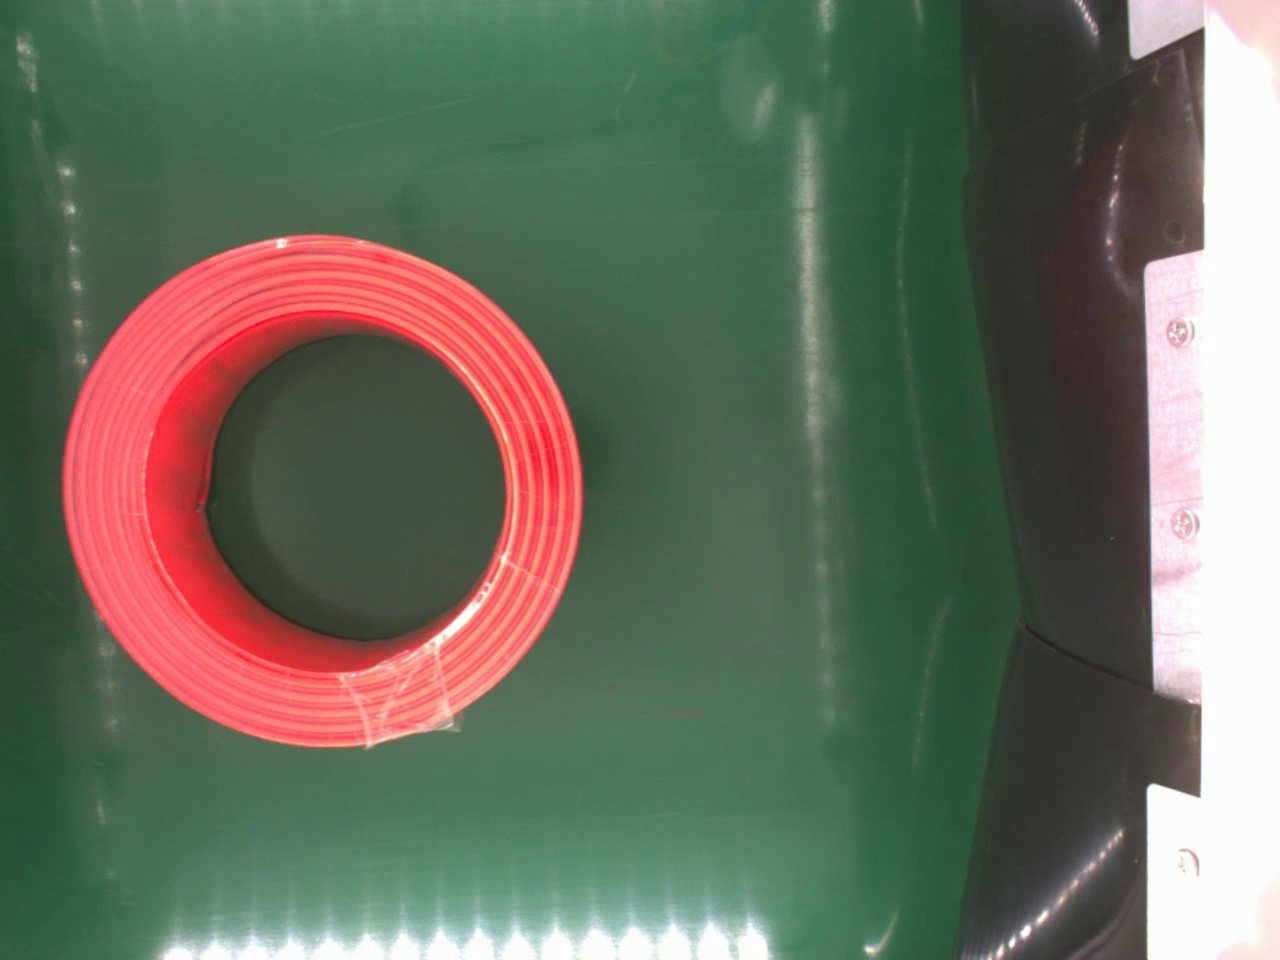red: (61, 233, 589, 751)
